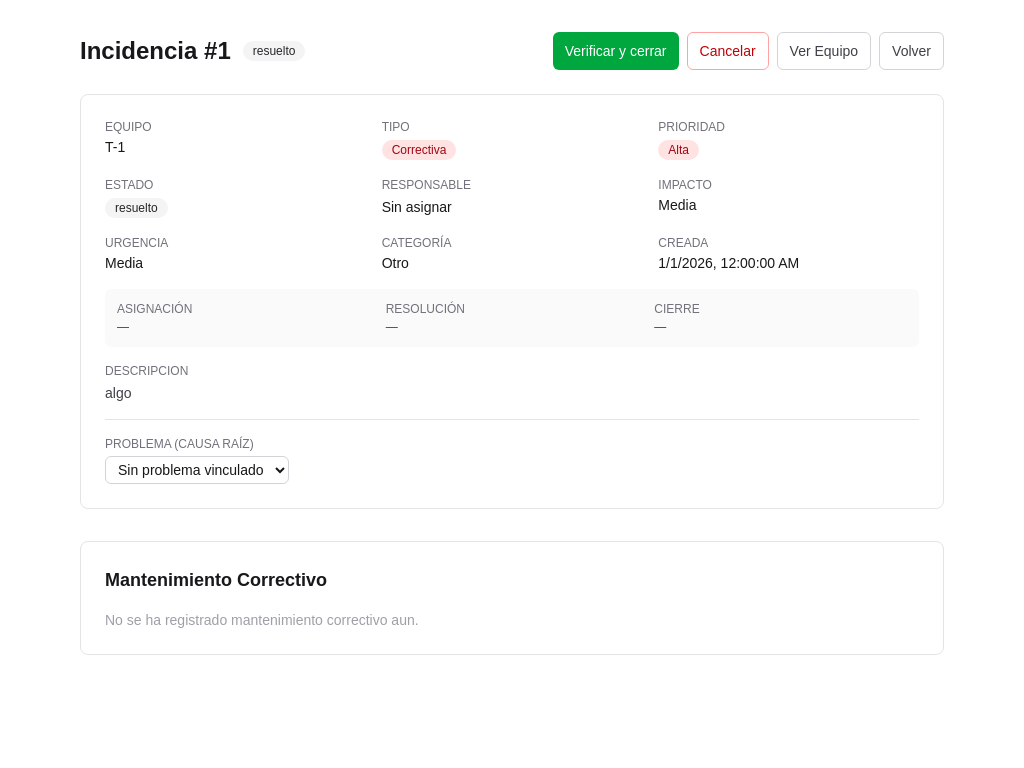
Test: IncidenciaDetailPage › refreshes the mantenimiento fields after a successful cerrar
Click the button "Verificar y cerrar" at (616, 51), box top-left (553, 32), bottom-right (678, 70)
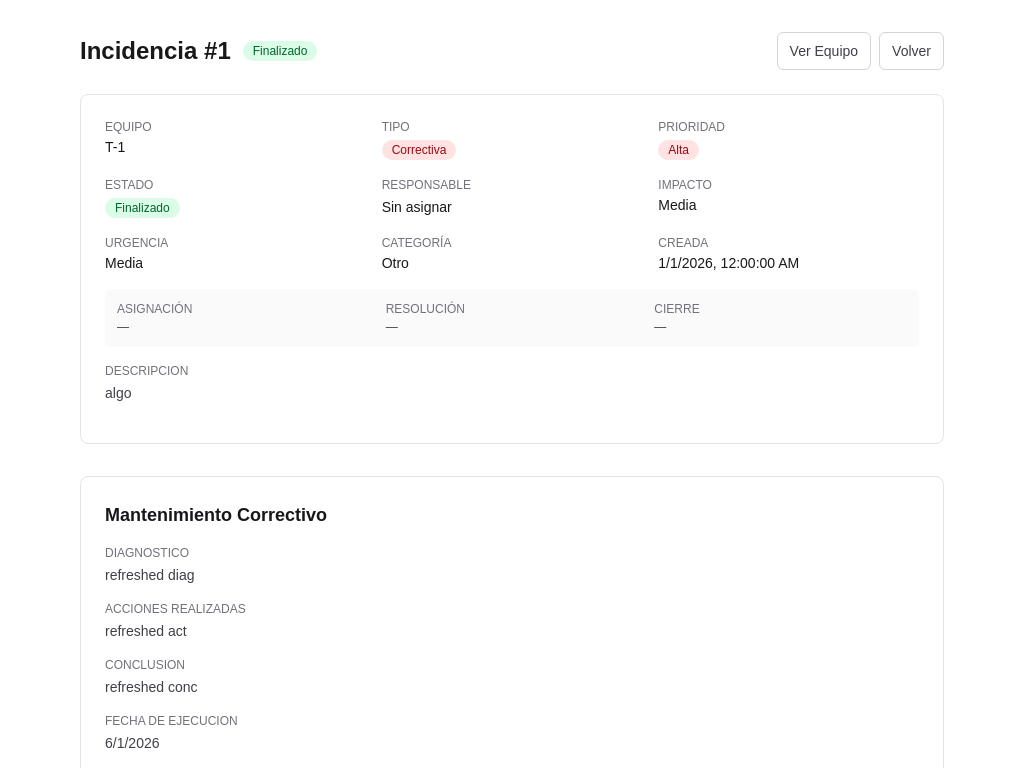
Check: the text "refreshed diag" is shown, box top-left (105, 567), bottom-right (194, 583)
